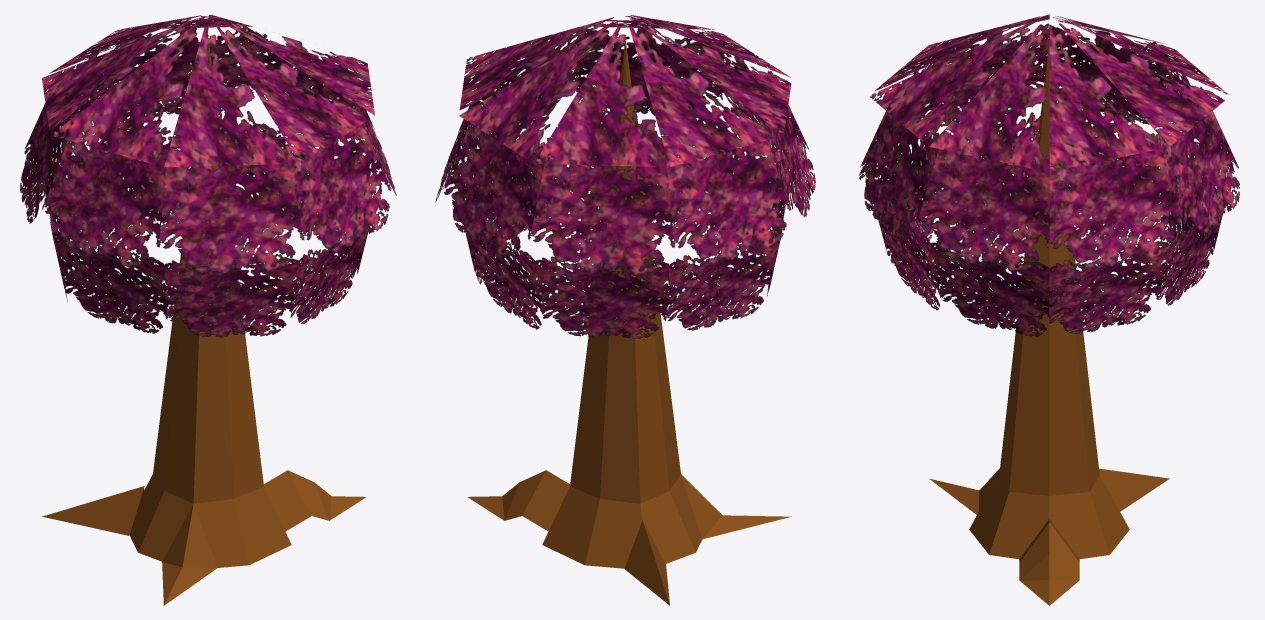
The model's file is stree magic.glb.
3 views of the same model, side by side, from view 1: azimuth 30°, elevation 25°; view 2: azimuth 150°, elevation 25°; view 3: azimuth 270°, elevation 25° (orthographic).
Visible parts, largest first — view 1: tree; view 2: tree; view 3: tree.
Part boxes in pixels (bbox=[...]): tree: bbox=[20, 15, 396, 605]; tree: bbox=[435, 15, 815, 605]; tree: bbox=[859, 14, 1239, 605].
Size of the model in its own units: 1.72 by 2.43 by 1.72.
Materials: 2 (1 with a texture image).
